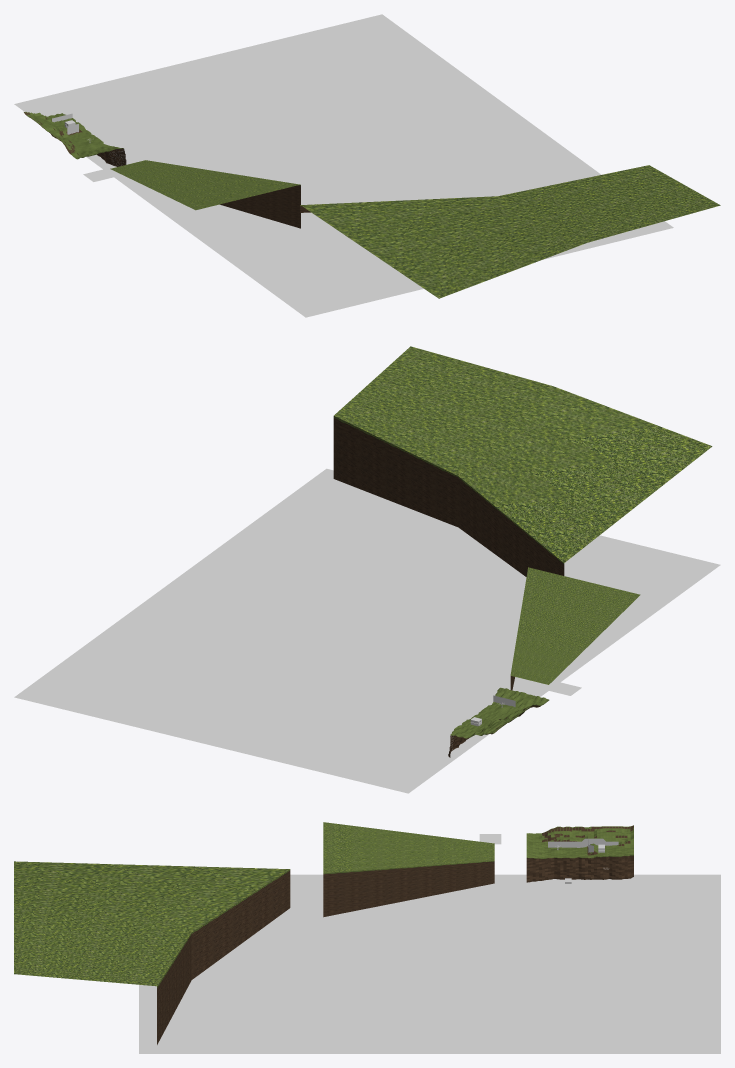
Rendered from Map_Cliffside4.glb.
The picture shows the model from 3 angles, top to bottom: view 1: azimuth 30°, elevation 25°; view 2: azimuth 150°, elevation 25°; view 3: azimuth 270°, elevation 25°; orthographic projection. The views are drawn at different scales.
Parts seen in each view (by area): view 1: Plane, Outside, Ground; view 2: Plane, Outside, Ground; view 3: Plane, Outside, Cliff side, Ground, INV wall.
Part boxes in pixels (x1,y1,x2,y2): Plane: (14, 14, 673, 317); Outside: (24, 112, 720, 298); Ground: (52, 118, 107, 150); Plane: (14, 468, 720, 793); Outside: (333, 346, 712, 738); Ground: (456, 702, 515, 732); Plane: (139, 874, 720, 1053); Outside: (14, 822, 633, 1044); Cliff side: (526, 855, 633, 882); Ground: (548, 843, 618, 857); INV wall: (548, 838, 618, 852).
Size of the model in its own units: 589 by 99.47 by 884.
6 materials, 6 textured.
